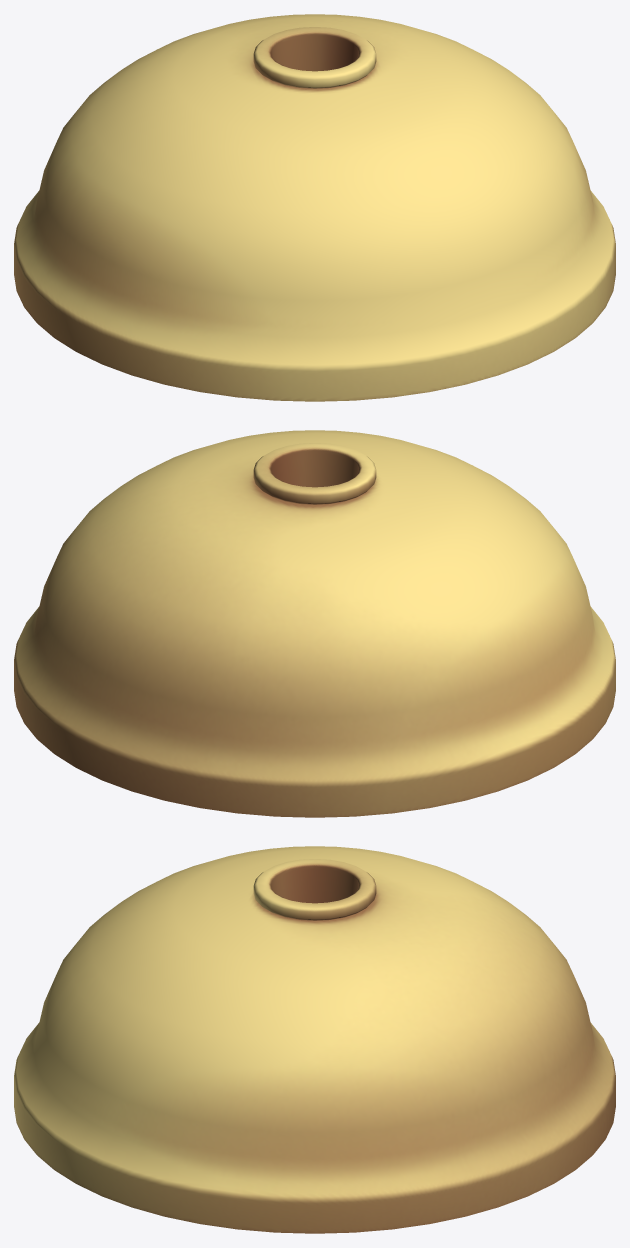
Rendered from CommunityRoomB_ConciergeBellB.fbx.
3 renders of one model, top to bottom at view 1: azimuth 30°, elevation 25°; view 2: azimuth 150°, elevation 25°; view 3: azimuth 270°, elevation 25°, orthographic.
Parts seen in each view (by area): view 1: CommunityRoomB_ConciergeBellB; view 2: CommunityRoomB_ConciergeBellB; view 3: CommunityRoomB_ConciergeBellB.
Boxes of the visible parts, bbox=[...] form: CommunityRoomB_ConciergeBellB: bbox=[14, 14, 615, 401]; CommunityRoomB_ConciergeBellB: bbox=[14, 430, 615, 817]; CommunityRoomB_ConciergeBellB: bbox=[14, 846, 615, 1233].
Bounding box in the file's own units: 10.06 × 4.21 × 10.06.
